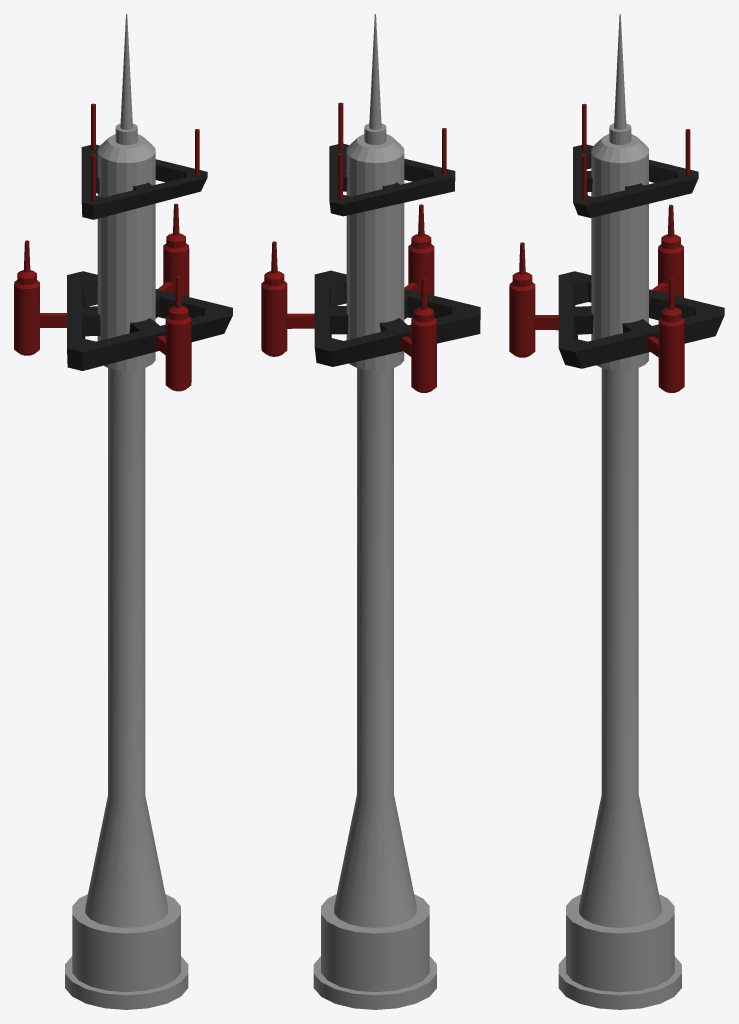
The model's file is COMTower.FBX.
3 renders of one model, left to right at view 1: azimuth 30°, elevation 25°; view 2: azimuth 150°, elevation 25°; view 3: azimuth 270°, elevation 25°, orthographic.
Parts seen in each view (by area): view 1: Cylinder002; view 2: Cylinder002; view 3: Cylinder002.
Boxes of the visible parts, x1,y1,x2,y2 form: Cylinder002: (14, 14, 232, 1009); Cylinder002: (261, 14, 480, 1009); Cylinder002: (509, 14, 724, 1009).
Size of the model in its own units: 216 by 1167 by 235.
